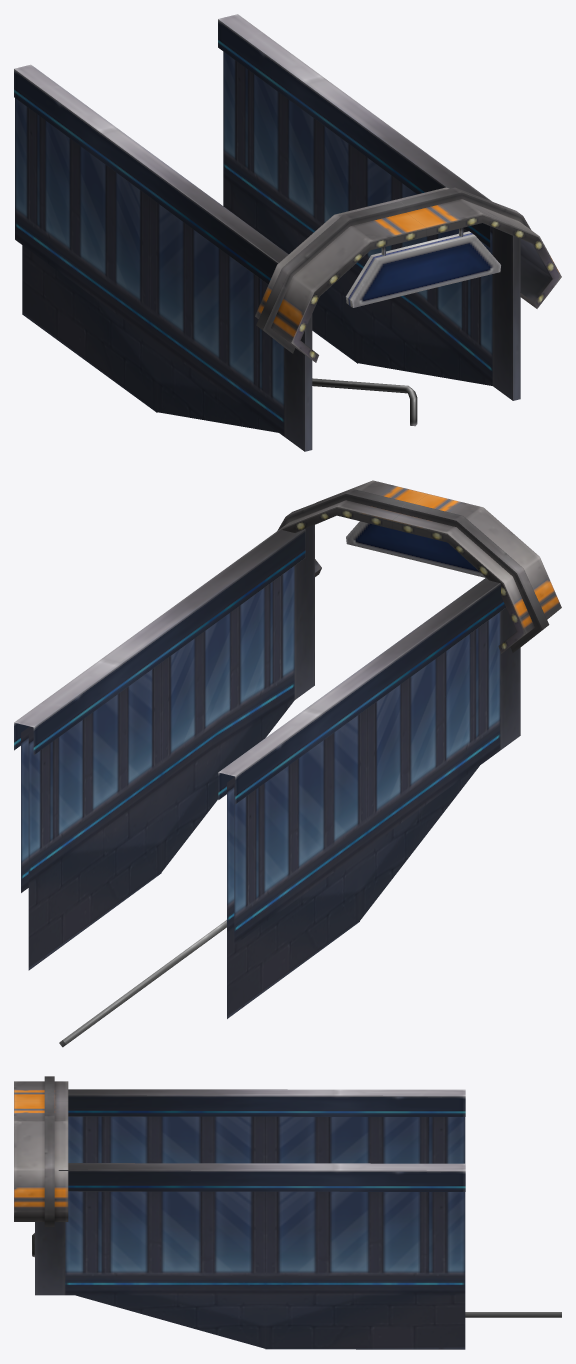
The picture shows the model from 3 angles, top to bottom: view 1: azimuth 30°, elevation 25°; view 2: azimuth 150°, elevation 25°; view 3: azimuth 270°, elevation 25°; orthographic projection. The views are drawn at different scales.
Parts seen in each view (by area): view 1: gk_jz011_01; view 2: gk_jz011_01; view 3: gk_jz011_01.
Boxes of the visible parts, <box> form: gk_jz011_01: <box>14,14,561,451</box>; gk_jz011_01: <box>14,480,561,1047</box>; gk_jz011_01: <box>14,1076,561,1349</box>.
Size of the model in its own units: 566 by 562 by 1264.
